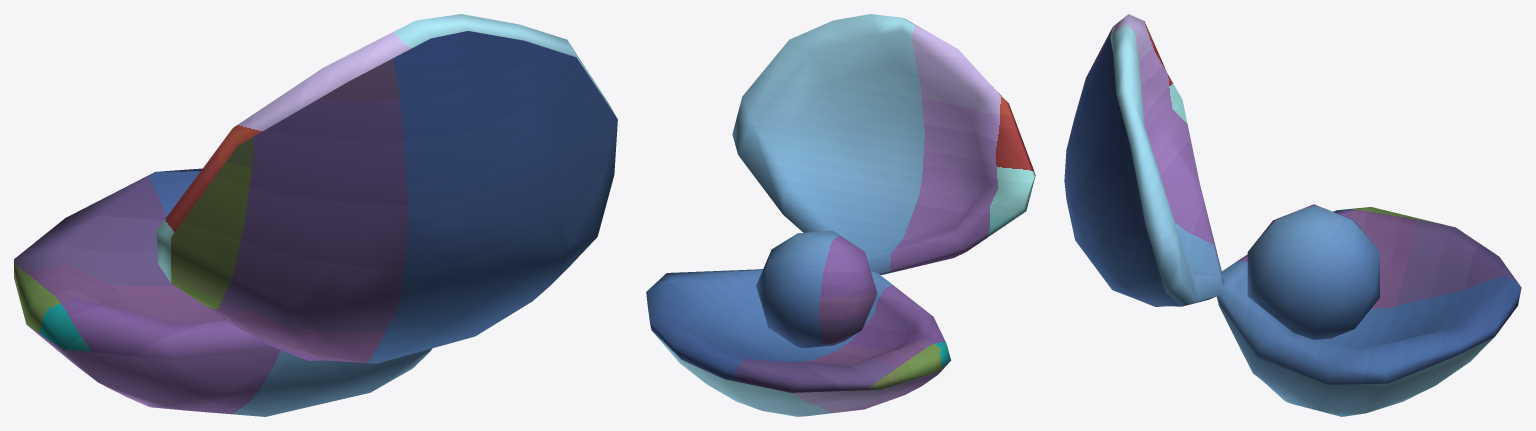
Rendered from P_NatureClamShell.glb.
The picture shows the model from 3 angles, left to right: view 1: azimuth 30°, elevation 25°; view 2: azimuth 150°, elevation 25°; view 3: azimuth 270°, elevation 25°; orthographic projection. The views are drawn at different scales.
Parts seen in each view (by area): view 1: P_NatureClamShell; view 2: P_NatureClamShell; view 3: P_NatureClamShell.
Boxes of the visible parts, <box> form: P_NatureClamShell: <box>14,14,617,416</box>; P_NatureClamShell: <box>646,14,1035,416</box>; P_NatureClamShell: <box>1064,14,1521,416</box>.
Bounding box in the file's own units: 0.3433 × 0.3442 × 0.3982.
Materials: 1 (1 with a texture image).
